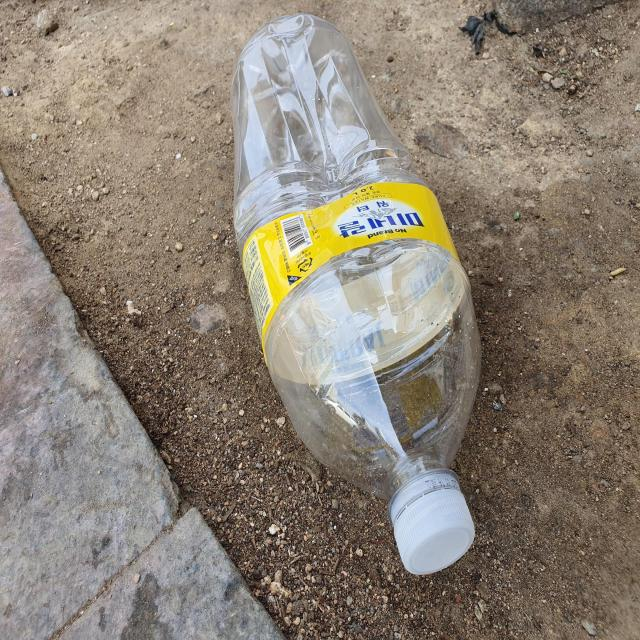plastic: (231, 13, 481, 575)
